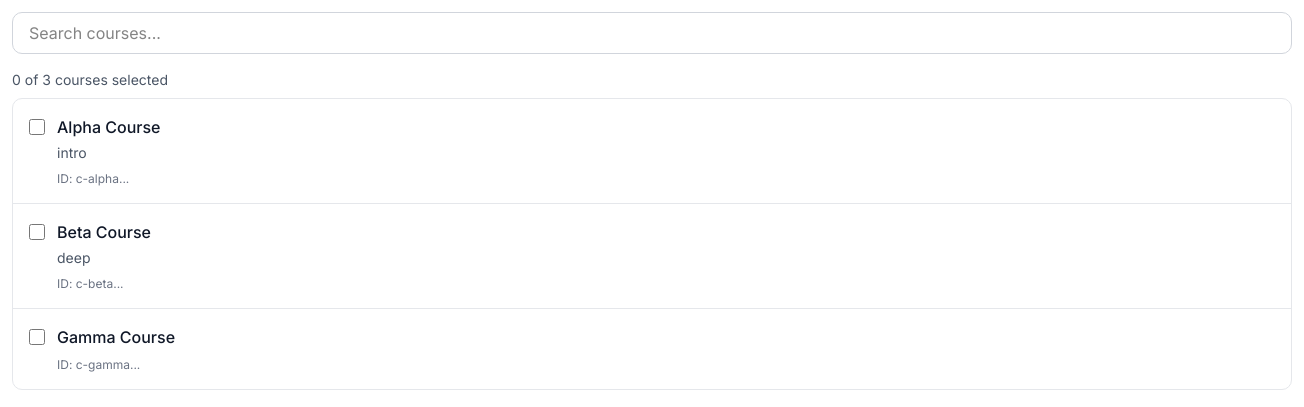
it: FeaturedCourseSelector › filters by title via the search box
Type "beta" into the field with placeholder "Search courses..." at [652, 33], box left=12, top=12, right=1292, bottom=54
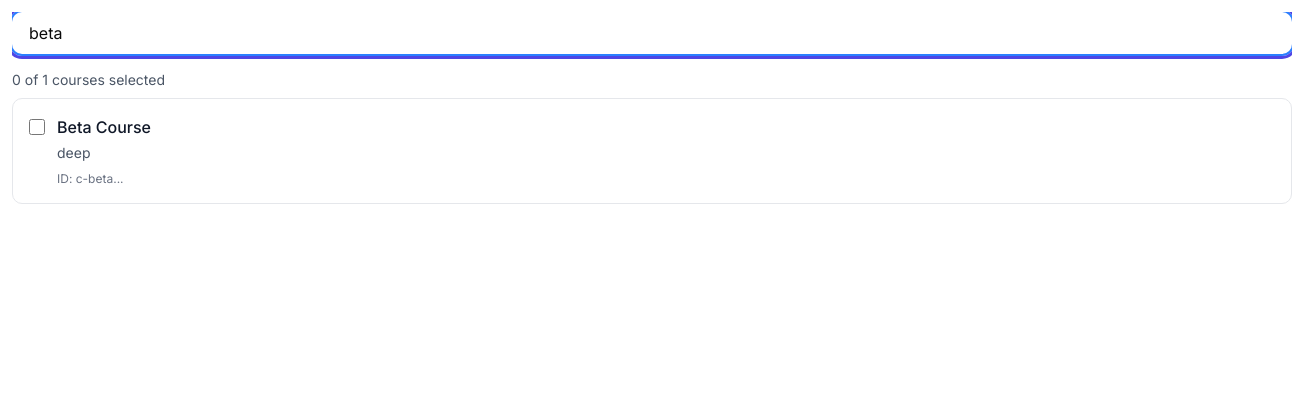
Expected: the heading "Beta Course" is shown, left=57, top=117, right=151, bottom=137
Expected: the heading "Alpha Course" is gone
Expected: the heading "Gamma Course" is gone
